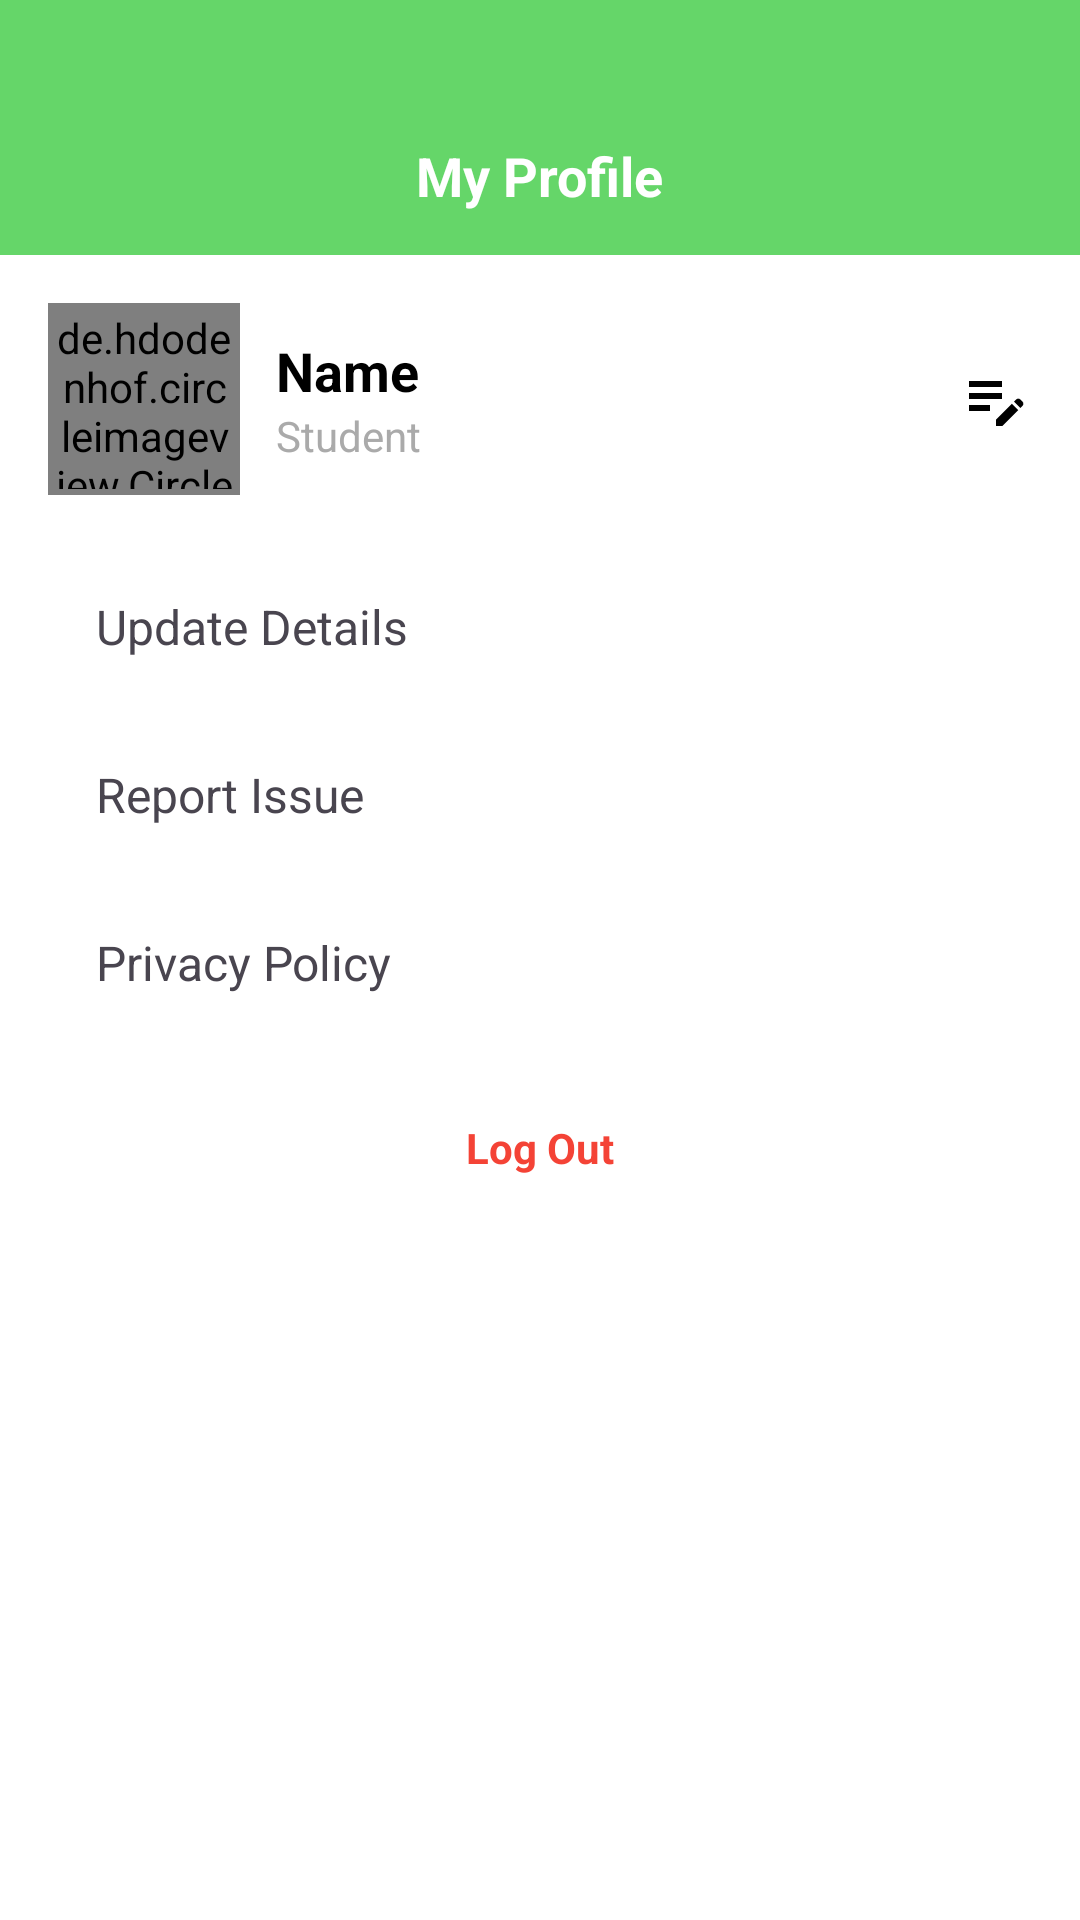

Screen size 1080px x 1920px. Icon name, then its box in pixels as (x1, y1, x2, y2):
edit: (969, 381, 1024, 426)
